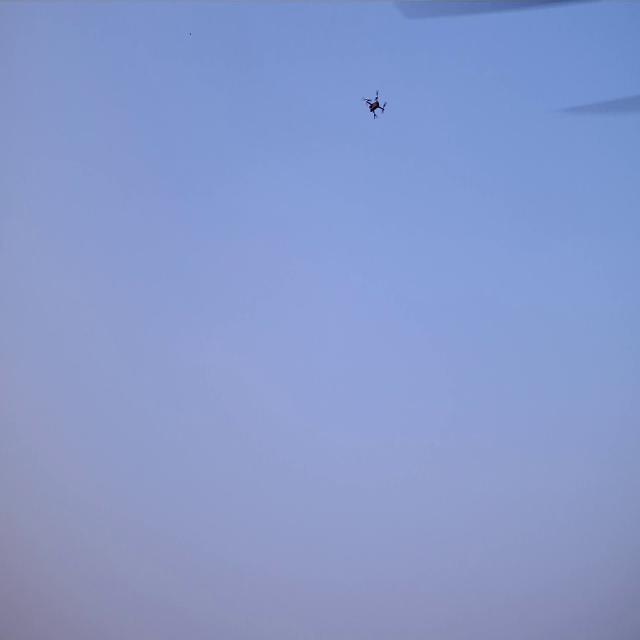UAV: (366, 92, 385, 119)
